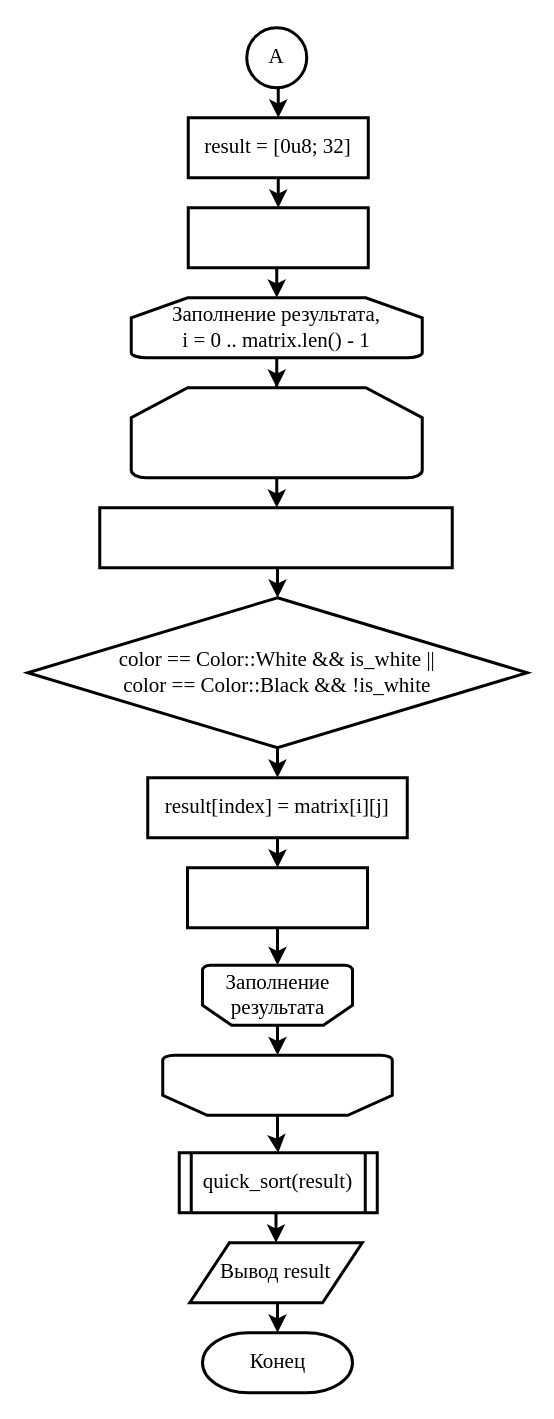
Image size: 554x1419. Some labels were removed from this diagram. The centre of each missing label's shape, as x and y in pixels:
"index += 1" goes at pixel 276 897.
"index = 0" goes at pixel 277 237.
"is_white = i % 2 == 0 && j % 2 == 0 || i % 2 != 0 && j % 2 != 0" goes at pixel 275 537.
"Заполнение результата внутренний" goes at pixel 276 1084.
"Заполнение результата внутренний, j = 0 .. matrix[i].len() - 1" goes at pixel 276 432.
